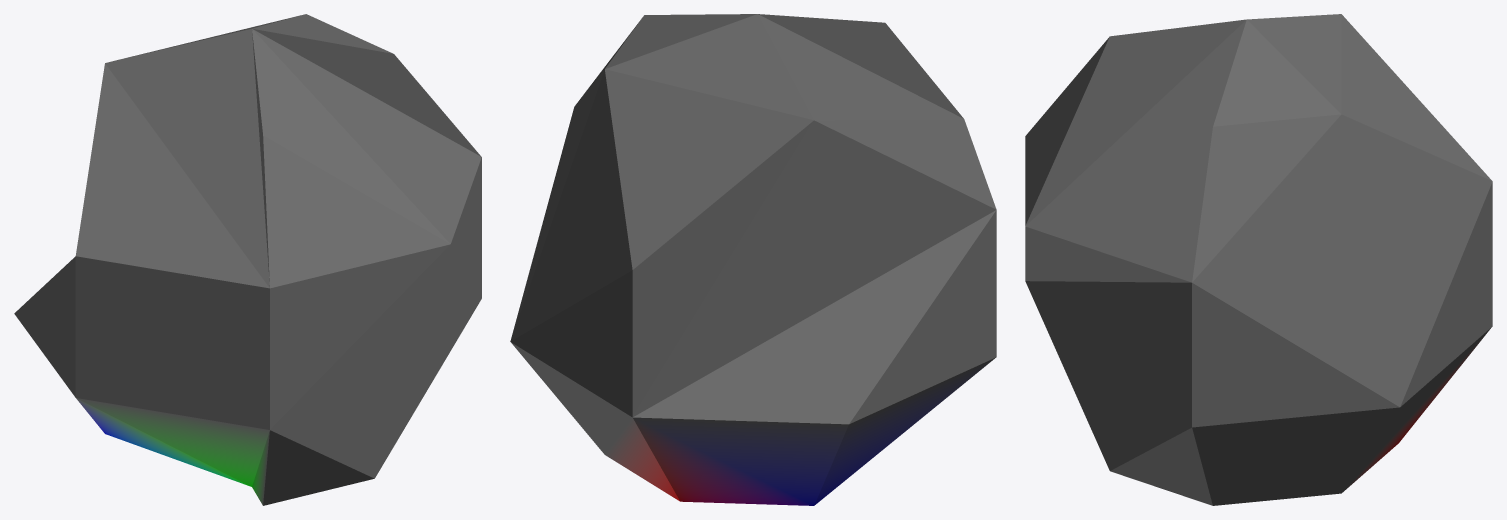
File: decimating_conquest_1_27.obj
3 renders of one model, left to right at view 1: azimuth 30°, elevation 25°; view 2: azimuth 150°, elevation 25°; view 3: azimuth 270°, elevation 25°, orthographic. The views are drawn at different scales.
Size of the model in its own units: 1.85 by 2 by 1.81.
